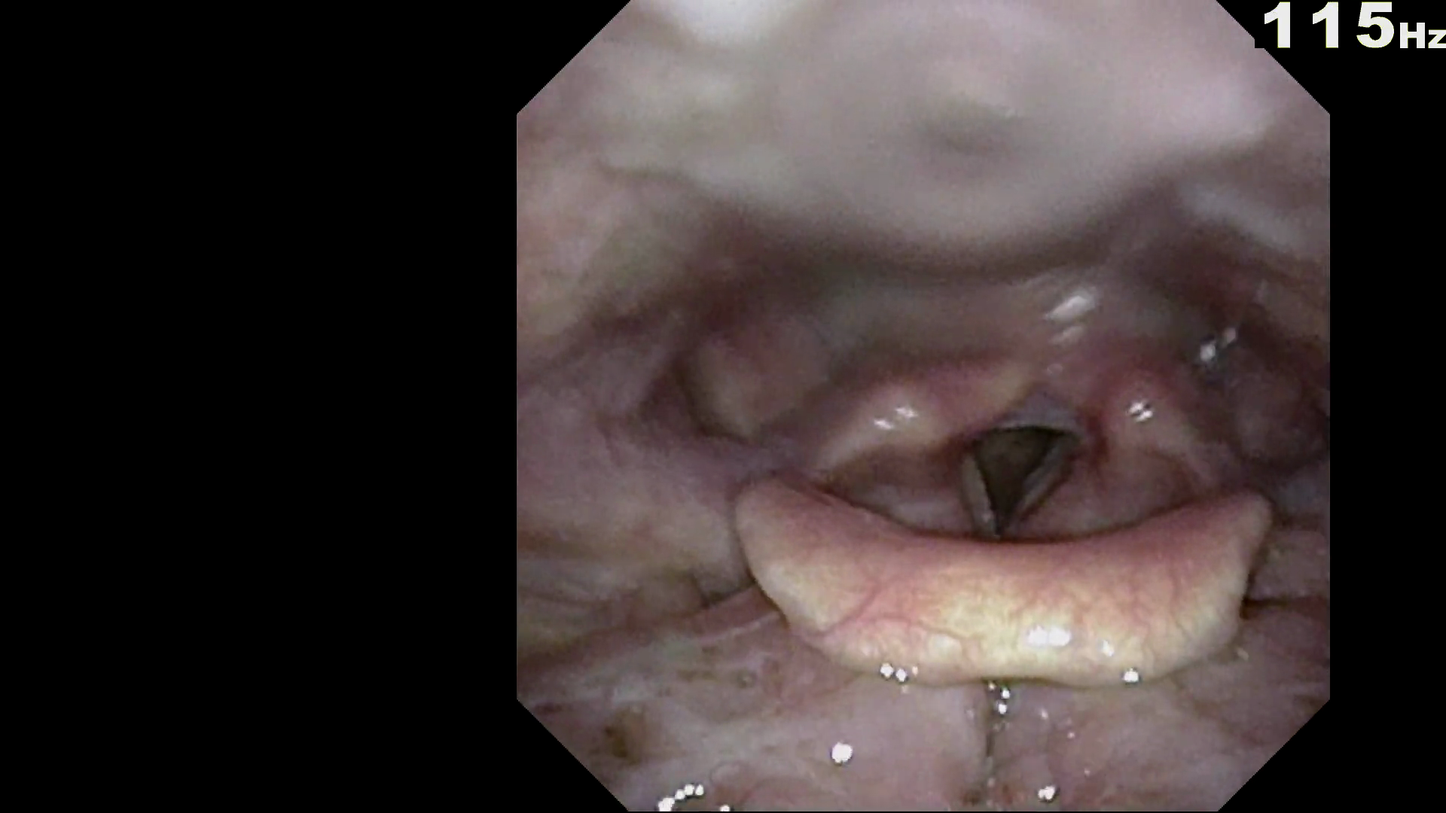epiglottis: (680, 514, 1289, 711)
trachea: (960, 440, 1064, 554)
